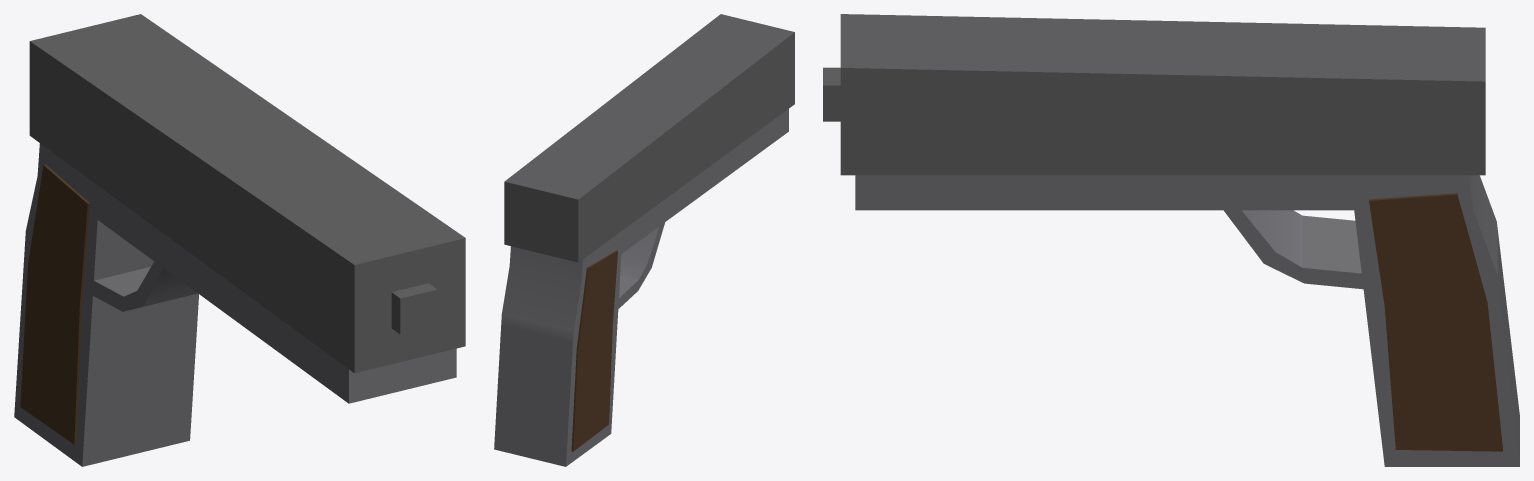
The model's file is Pistol.fbx.
3 views of the same model, side by side, from view 1: azimuth 30°, elevation 25°; view 2: azimuth 150°, elevation 25°; view 3: azimuth 270°, elevation 25° (orthographic). The views are drawn at different scales.
Parts seen in each view (by area): view 1: Pistol; view 2: Pistol; view 3: Pistol.
Boxes of the visible parts, x1,y1,x2,y2 form: Pistol: (14,14,465,466); Pistol: (494,14,794,466); Pistol: (823,14,1519,466).
Bounding box in the file's own units: 4.19 × 14.24 × 22.49.
